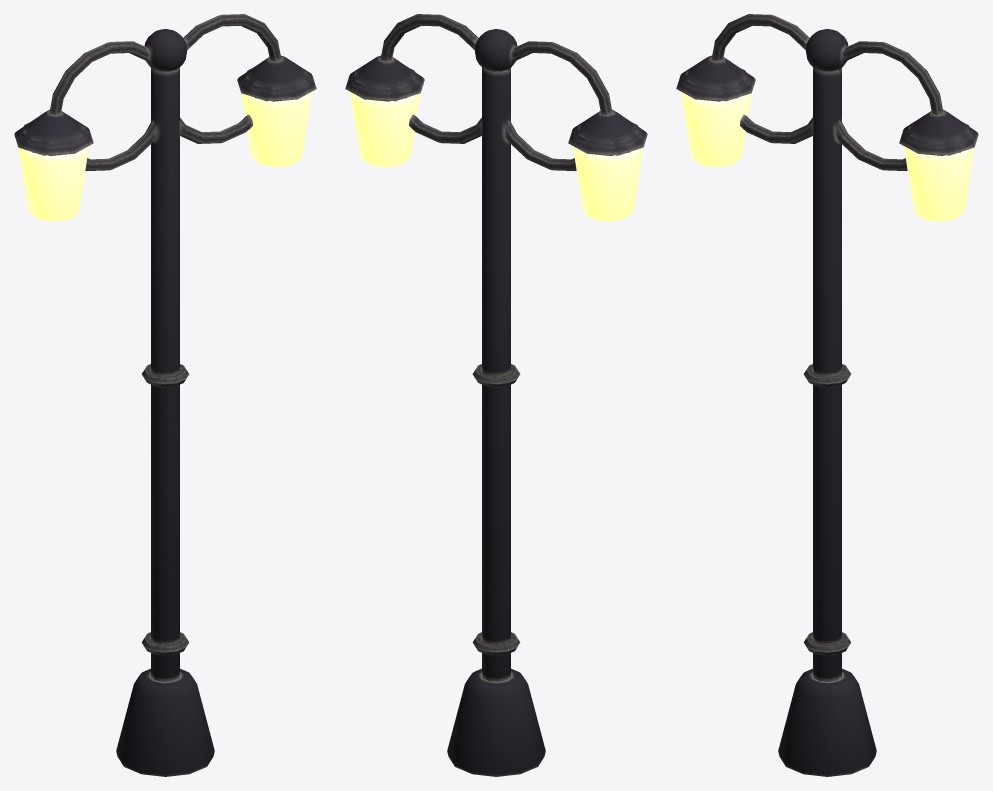
Rendered from sf_street_lamp.glb.
3 views of the same model, side by side, from view 1: azimuth 30°, elevation 25°; view 2: azimuth 150°, elevation 25°; view 3: azimuth 330°, elevation 25° (orthographic).
Parts seen in each view (by area): view 1: sf_street_lamp; view 2: sf_street_lamp; view 3: sf_street_lamp.
Part boxes in pixels (x1,y1,x2,y2): sf_street_lamp: (14,14,316,776); sf_street_lamp: (345,14,647,776); sf_street_lamp: (676,14,978,776).
Bounding box in the file's own units: 1.85 × 4.39 × 0.5364.
Materials: 2 (2 with a texture image).
